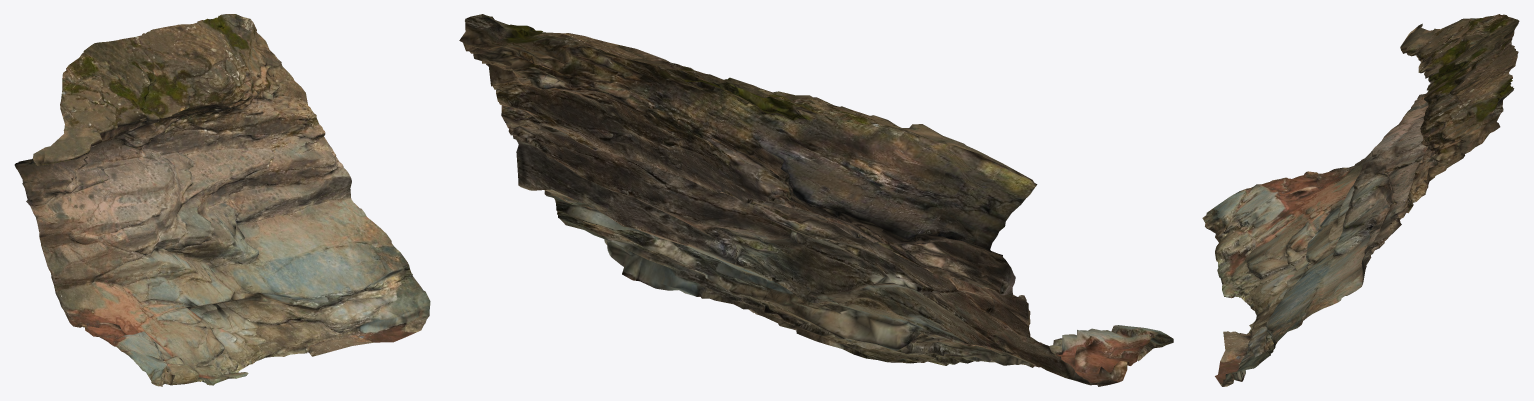
File: rock_face_01.glb
The picture shows the model from 3 angles, left to right: view 1: azimuth 30°, elevation 25°; view 2: azimuth 150°, elevation 25°; view 3: azimuth 270°, elevation 25°; orthographic projection. The views are drawn at different scales.
Visible parts, largest first — view 1: rock_face_01; view 2: rock_face_01; view 3: rock_face_01.
Part boxes in pixels (left/top/right/bottom): rock_face_01: left=14, top=14, right=430, bottom=386; rock_face_01: left=459, top=14, right=1173, bottom=386; rock_face_01: left=1202, top=14, right=1519, bottom=386.
Bounding box in the file's own units: 4.95 × 3.56 × 3.83.
Materials: 1 (1 with a texture image).
